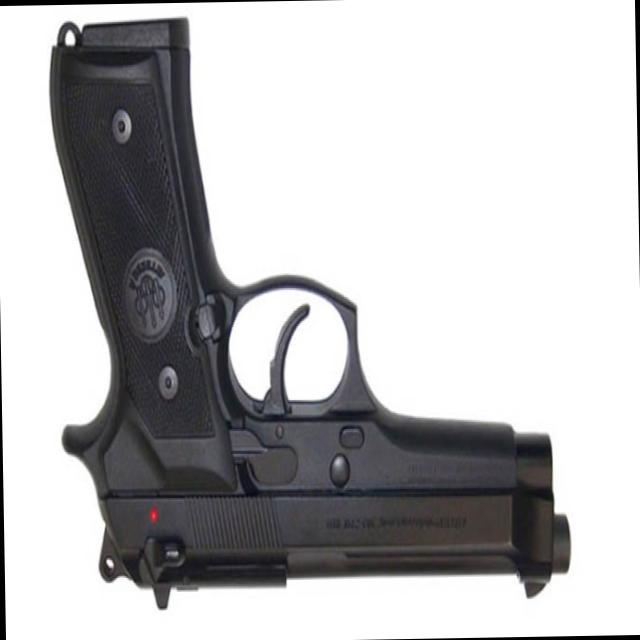Gun: (39, 0, 582, 640)
